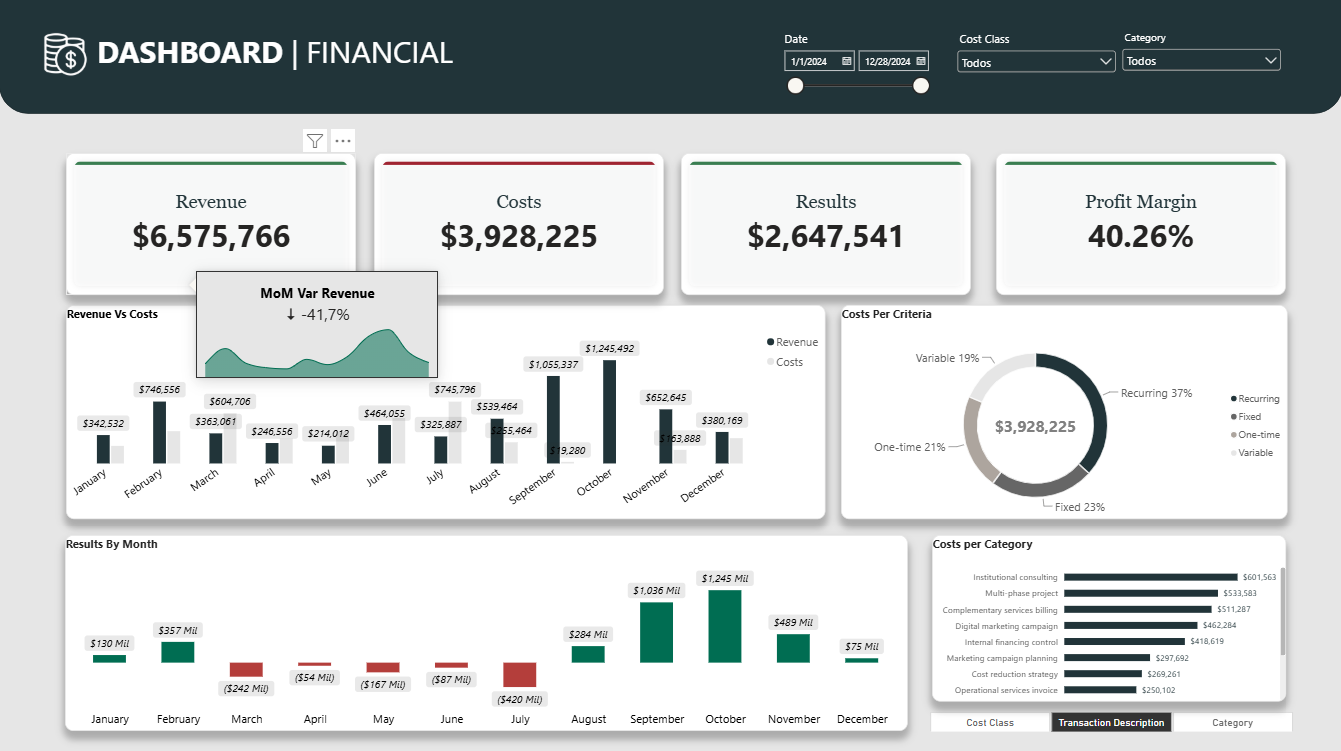

Layout of this report page (visuals, bound fields, positions):
{"tool":"powerbi","page":{"name":"Financial","canvas":[1920,1080],"ordinal":0},"visuals":[{"type":"shape","box":[0,0,1920,166.7],"z":0},{"type":"textbox","box":[140,48.3,576.7,70],"z":1000},{"type":"image","box":[38.3,21.7,113.3,121.7],"z":2000},{"type":"cardVisual","fields":{"Data":["Financial Data.Results"]},"box":[974.6,223.2,414.3,202.8],"z":3000},{"type":"cardVisual","fields":{"Data":["Financial Data.Profit Margin"]},"box":[1424,223.2,414.3,202.8],"z":4000},{"type":"donutChart","title":"Costs Per Criteria","fields":{"Category":["Financial Data.Cost Criteria"],"Y":["Financial Data.Costs"]},"box":[1202.2,440.6,637.6,306.4],"z":5000},{"type":"clusteredColumnChart","title":"Revenue Vs Costs","fields":{"Category":["Financial Data.Month Name"],"Y":["Financial Data.Revenue","Financial Data.Costs"]},"box":[96.3,440.6,1085.5,306.4],"z":6000},{"type":"clusteredColumnChart","title":"Results By Month","fields":{"Category":["Financial Data.Month Name"],"Y":["Financial Data.Results"]},"box":[94.8,768.9,1203.6,280.1],"z":7000},{"type":"slicer","fields":{"Values":["Financial Parameter.Financial Parameter"]},"box":[1311.6,1021.3,555.9,27.7],"z":8000},{"type":"clusteredBarChart","title":"Costs per Category","fields":{"Category":["Financial Data.Transaction Description"],"Y":["Financial Data.Costs"]},"box":[1333.5,768.9,506.3,237.8],"z":9000},{"type":"slicer","fields":{"Values":["Financial Data.Cost Class"]},"box":[1364.1,48.1,236.4,70],"z":10000},{"type":"slicer","fields":{"Values":["Financial Data.Category"]},"box":[1600,47.1,236.4,70],"z":11000},{"type":"cardVisual","fields":{"Data":["Financial Data.Revenue"]},"box":[96.3,223.2,414.3,202.8],"z":12000},{"type":"slicer","fields":{"Values":["Financial Data.Date"]},"box":[1114,48,219,150],"z":13000},{"type":"cardVisual","fields":{"Data":["Financial Data.Costs"]},"box":[535.7,222.9,414.3,202.8],"z":14000}]}

Visuals, with their boxes in screenshot pixels (x1, y1, x2, y2), scaled from the page's 1920x1080 canvas onto the 1341x751 screenshot:
shape: 0, 0, 1340, 116
textbox: 98, 34, 501, 82
image: 27, 15, 106, 100
cardVisual - Financial Data.Results: 681, 155, 970, 296
cardVisual - Financial Data.Profit Margin: 995, 155, 1284, 296
"Costs Per Criteria" donutChart: 840, 306, 1285, 519
"Revenue Vs Costs" clusteredColumnChart: 67, 306, 825, 519
"Results By Month" clusteredColumnChart: 66, 535, 907, 729
slicer - Financial Parameter.Financial Parameter: 916, 710, 1304, 729
"Costs per Category" clusteredBarChart: 931, 535, 1285, 700
slicer - Financial Data.Cost Class: 953, 33, 1118, 82
slicer - Financial Data.Category: 1118, 33, 1283, 81
cardVisual - Financial Data.Revenue: 67, 155, 357, 296
slicer - Financial Data.Date: 778, 33, 931, 138
cardVisual - Financial Data.Costs: 374, 155, 664, 296
